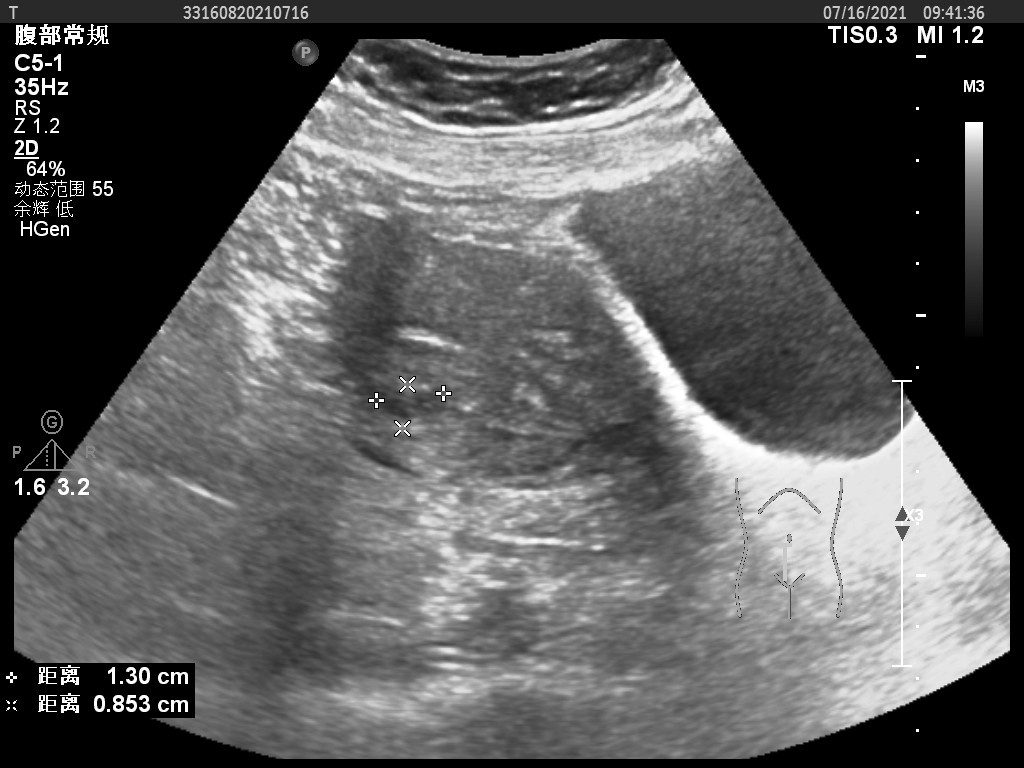肌瘤: (383, 393, 442, 416)
